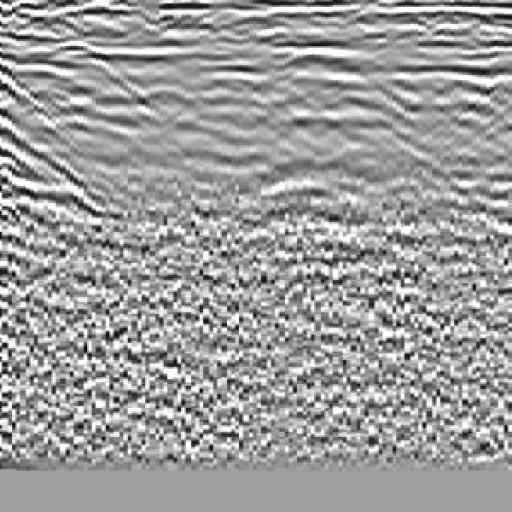metalic: (209, 33, 413, 263)
nonmetalic: (1, 34, 94, 225)
